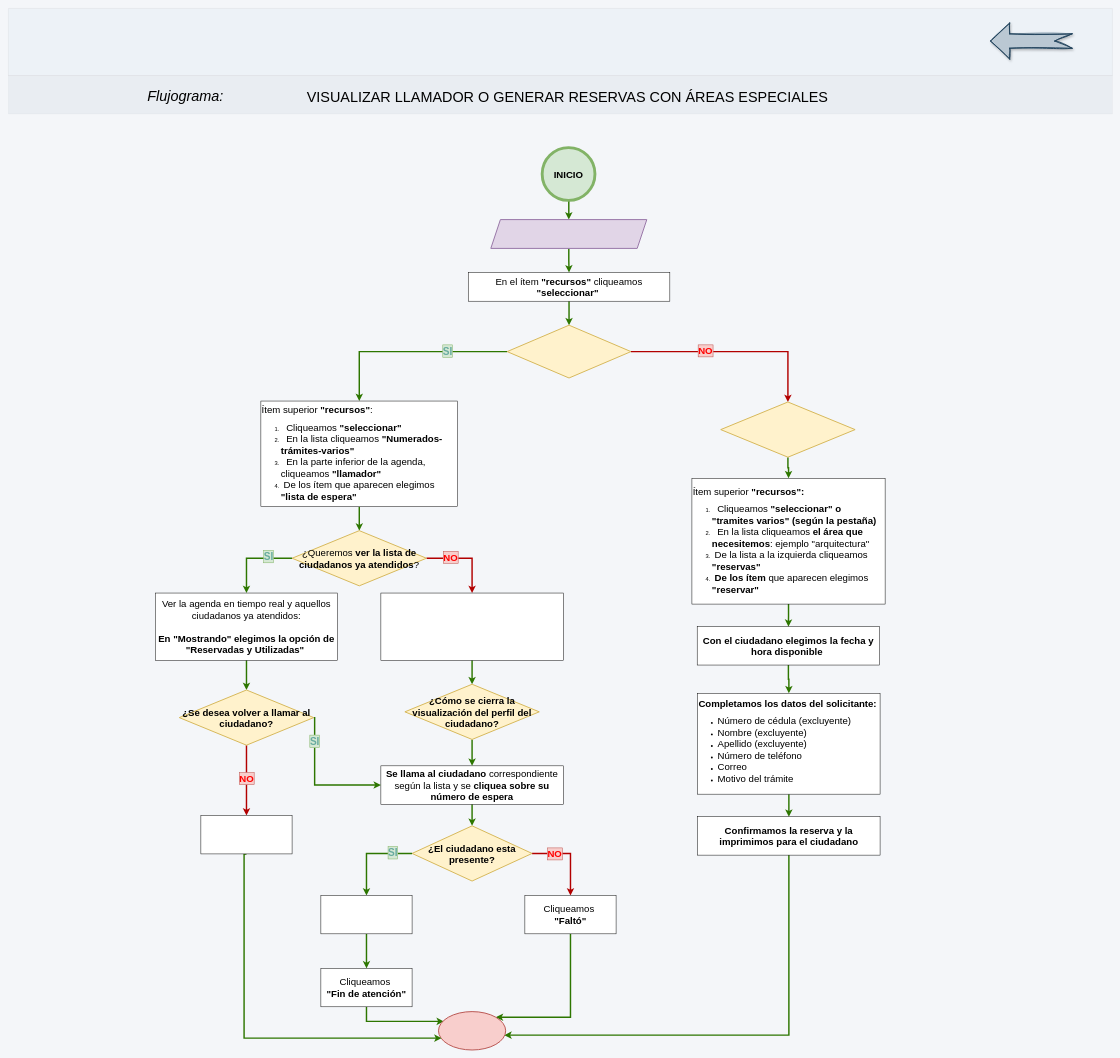
This 1120x1058 diagram has some shape labels left out. Each missing label, with the centre of its shape:
Cliqueamos "Inicio de atención": (x=366, y=914)
DENUNCIAS: (x=1031, y=41)
FIN: (x=472, y=1030)
INGRESAR AL SISTEMA: Sistema de agenda electrónica: (x=568, y=234)
Tomamos los datos necesarios: (x=246, y=834)
Ver la agenda en tiempo real: En "Mostrando" elegimos la opción de "Reservadas": (x=471, y=626)
¿Queremos ingresar a la agenda convencional para llamar al ciudadano ?: (x=568, y=351)
¿Se desea agendar al ciudadano con área en especial?: (x=787, y=429)
